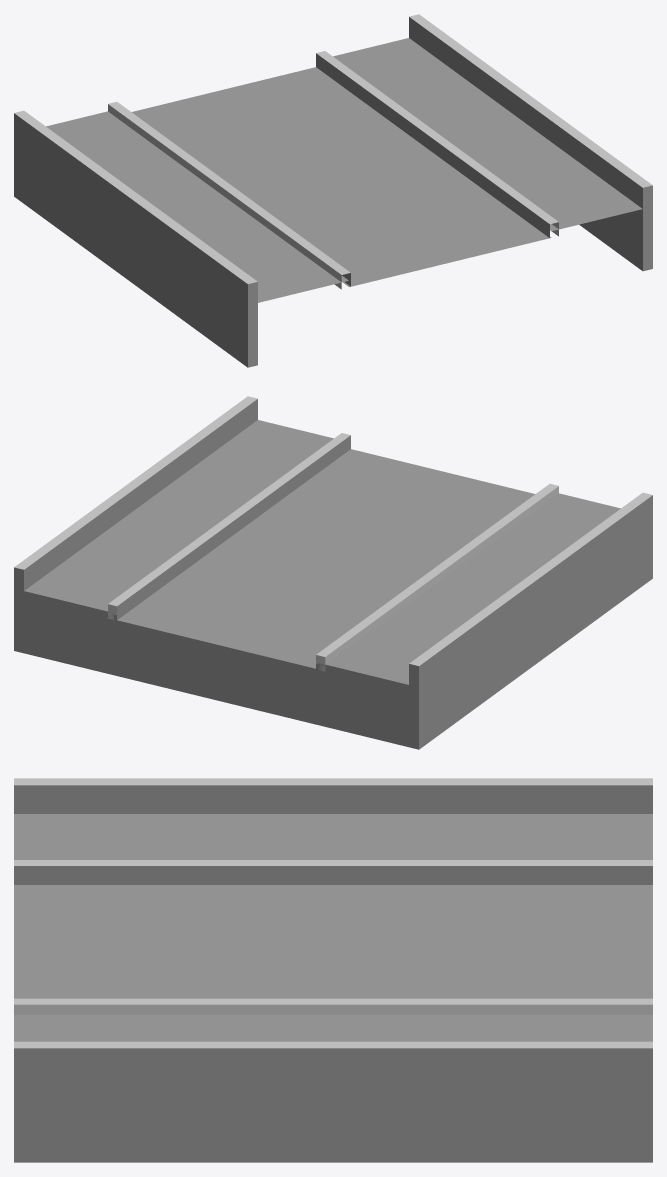
Rendered from port_tile_1x1_005.fbx.
The picture shows the model from 3 angles, top to bottom: view 1: azimuth 30°, elevation 25°; view 2: azimuth 150°, elevation 25°; view 3: azimuth 270°, elevation 25°; orthographic projection. The views are drawn at different scales.
Parts seen in each view (by area): view 1: port_tile_1x1_005; view 2: port_tile_1x1_005; view 3: port_tile_1x1_005.
Boxes of the visible parts, x1=… form: port_tile_1x1_005: x1=14, y1=14, x2=652, y2=367; port_tile_1x1_005: x1=14, y1=396, x2=652, y2=749; port_tile_1x1_005: x1=14, y1=778, x2=652, y2=1162.
Bounding box in the file's own units: 800 × 158 × 800.
